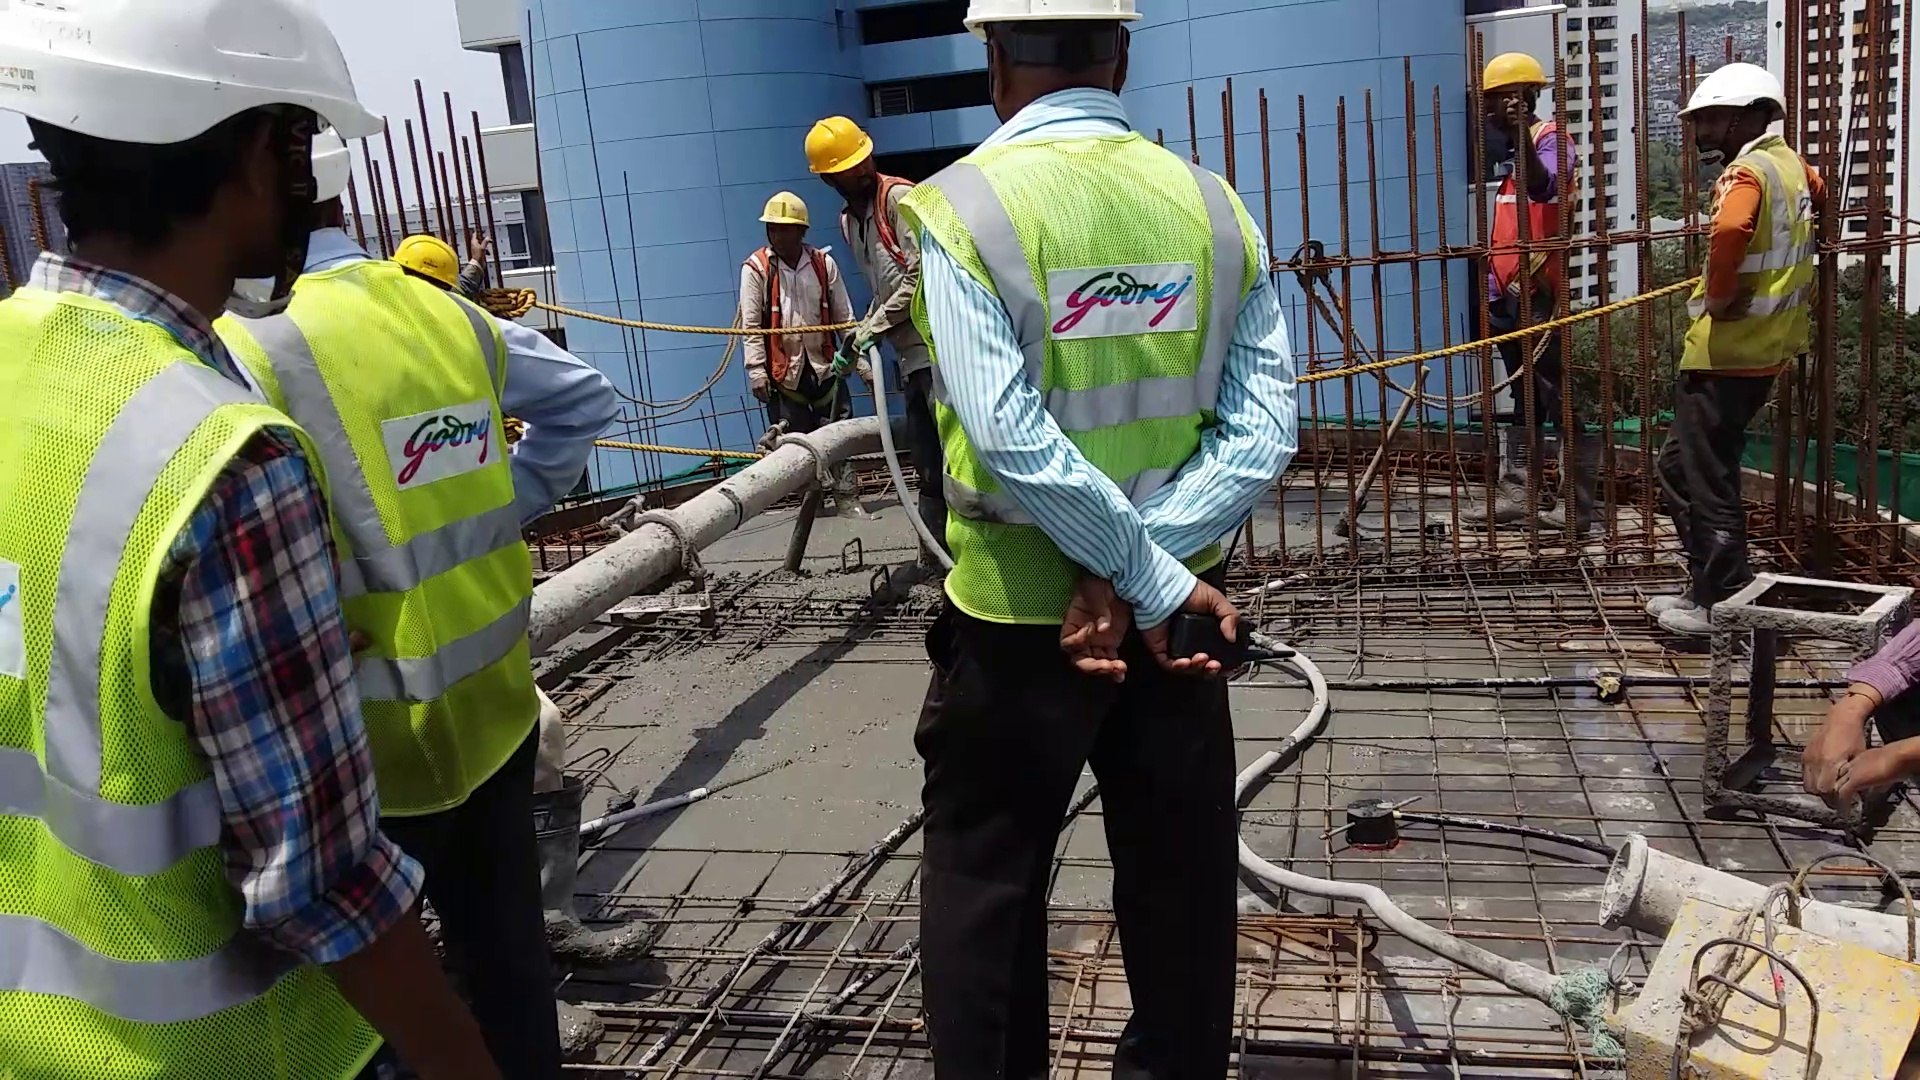SAFE: (1, 1, 344, 1076), (930, 1, 1246, 621), (1669, 61, 1812, 376), (735, 186, 851, 400)
